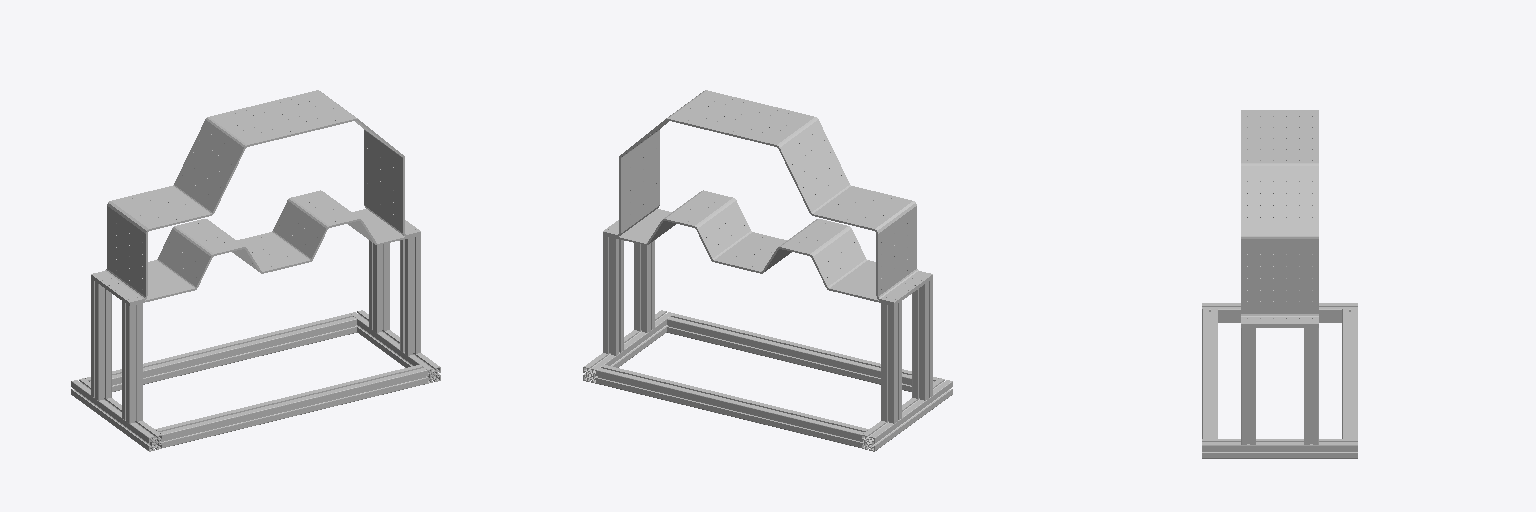
File: sample_jig.obj
3 views of the same model, side by side, from view 1: azimuth 30°, elevation 25°; view 2: azimuth 150°, elevation 25°; view 3: azimuth 270°, elevation 25° (orthographic).
Parts seen in each view (by area): view 1: 1, 2, 10, 9, 3, 6, 4, 8, 5, 7; view 2: 1, 2, 9, 10, 4, 5, 3, 8, 6, 7; view 3: 1, 7, 9, 10, 5, 6, 8.
Boxes of the visible parts, x1,y1,x2,y2 form: 1: [91, 90, 420, 303]; 2: [91, 190, 420, 305]; 10: [155, 365, 426, 447]; 9: [85, 313, 356, 391]; 3: [122, 301, 142, 423]; 6: [400, 235, 420, 355]; 4: [91, 279, 111, 400]; 8: [71, 378, 161, 451]; 5: [369, 240, 389, 332]; 7: [350, 310, 440, 383]; 1: [603, 90, 932, 303]; 2: [603, 190, 932, 305]; 9: [597, 365, 868, 447]; 10: [667, 313, 938, 391]; 4: [881, 301, 901, 423]; 5: [603, 235, 623, 355]; 3: [912, 279, 932, 400]; 8: [862, 378, 952, 451]; 6: [634, 240, 654, 332]; 7: [583, 310, 673, 383]; 1: [1241, 110, 1318, 325]; 7: [1202, 439, 1357, 458]; 9: [1342, 309, 1357, 438]; 10: [1202, 309, 1217, 438]; 5: [1304, 328, 1318, 444]; 6: [1241, 328, 1255, 444]; 8: [1202, 303, 1357, 322].
Bounding box in the file's own units: 1300 × 1123 × 600.